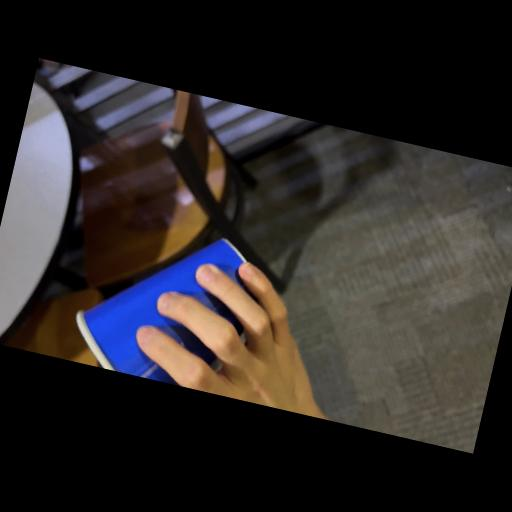lp_paper_cup: (64, 208, 294, 404)
